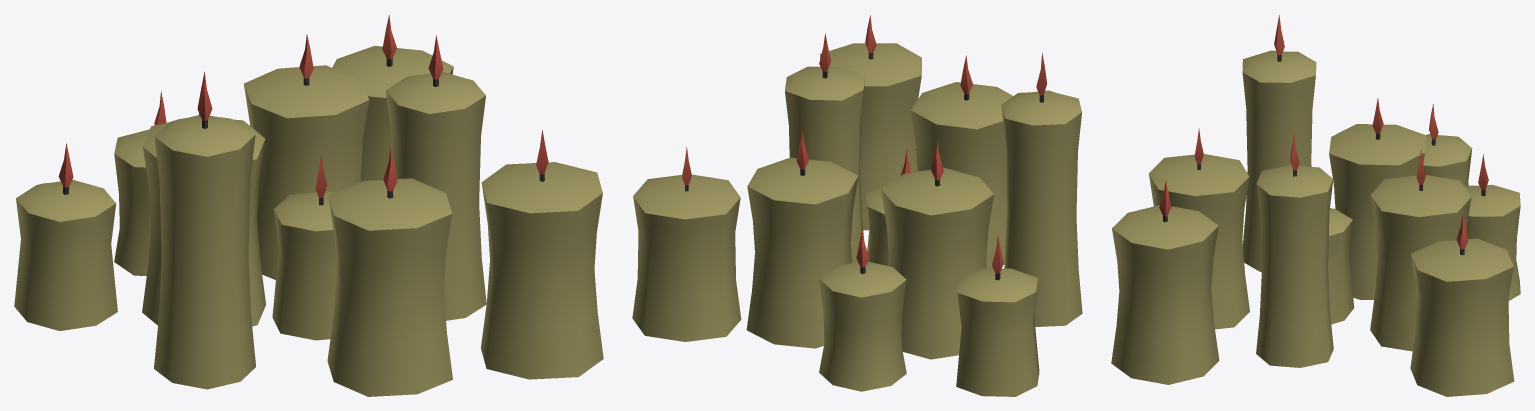
Rendered from Candles_2.glb.
The picture shows the model from 3 angles, left to right: view 1: azimuth 30°, elevation 25°; view 2: azimuth 150°, elevation 25°; view 3: azimuth 270°, elevation 25°; orthographic projection. The views are drawn at different scales.
Visible parts, largest first — view 1: Candles_2; view 2: Candles_2; view 3: Candles_2.
Boxes of the visible parts, left/top/right/bottom form: Candles_2: left=14, top=15, right=603, bottom=396; Candles_2: left=632, top=14, right=1082, bottom=396; Candles_2: left=1111, top=15, right=1520, bottom=396.
Size of the model in its own units: 0.9931 by 0.6457 by 0.9861.
